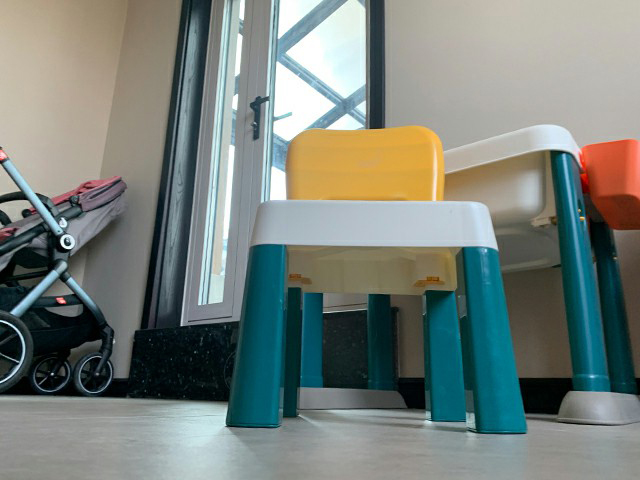stool: (227, 127, 532, 435)
table: (282, 124, 640, 427)
